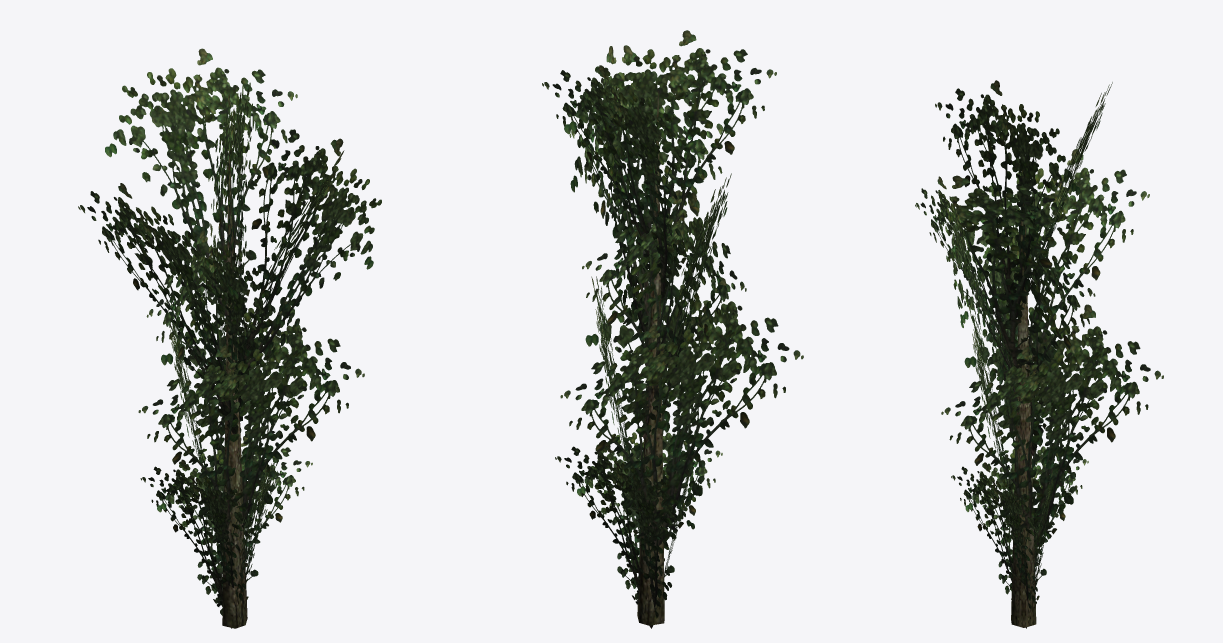
Rendered from tree01.FBX.
The picture shows the model from 3 angles, left to right: view 1: azimuth 30°, elevation 25°; view 2: azimuth 150°, elevation 25°; view 3: azimuth 270°, elevation 25°; orthographic projection. The views are drawn at different scales.
Parts seen in each view (by area): view 1: trre01; view 2: trre01; view 3: trre01.
Boxes of the visible parts, bbox=[...] form: trre01: bbox=[78, 48, 381, 628]; trre01: bbox=[542, 30, 803, 628]; trre01: bbox=[915, 80, 1163, 628].
Bounding box in the file's own units: 814 × 702 × 1282.
